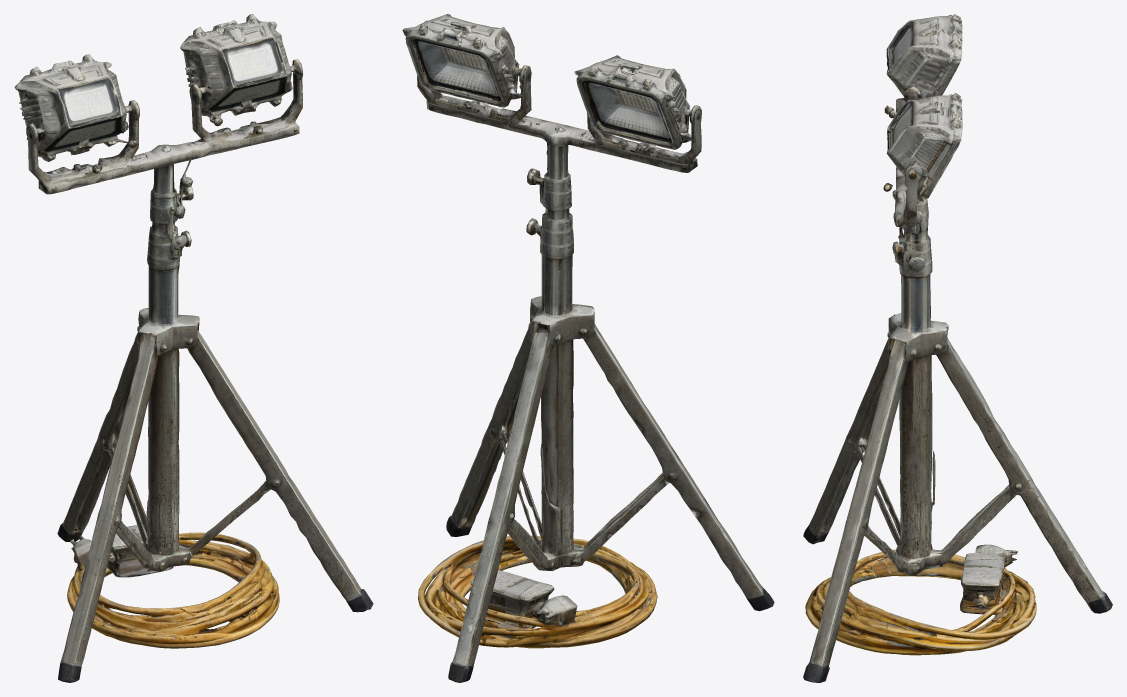
The model's file is FloodLight.glb.
The picture shows the model from 3 angles, left to right: view 1: azimuth 30°, elevation 25°; view 2: azimuth 150°, elevation 25°; view 3: azimuth 270°, elevation 25°; orthographic projection. The views are drawn at different scales.
Visible parts, largest first — view 1: texture_mapping; view 2: texture_mapping; view 3: texture_mapping.
Boxes of the visible parts, box(x1,y1,x2,y2) form: texture_mapping: box(14, 14, 373, 682); texture_mapping: box(402, 14, 774, 682); texture_mapping: box(803, 14, 1112, 682).
Size of the model in its own units: 0.5957 by 1 by 0.5161.
Materials: 1 (1 with a texture image).
